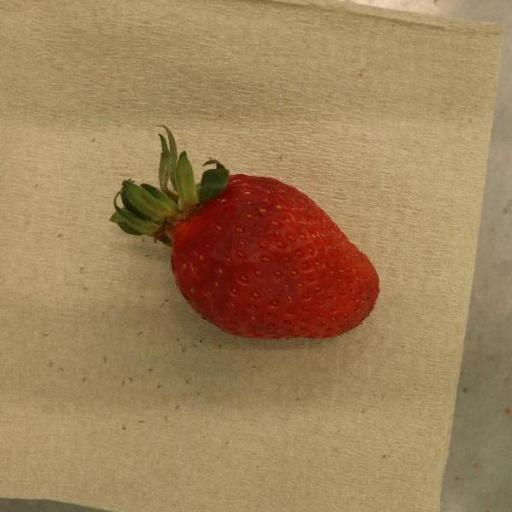Strawberry: (109, 126, 380, 340)
